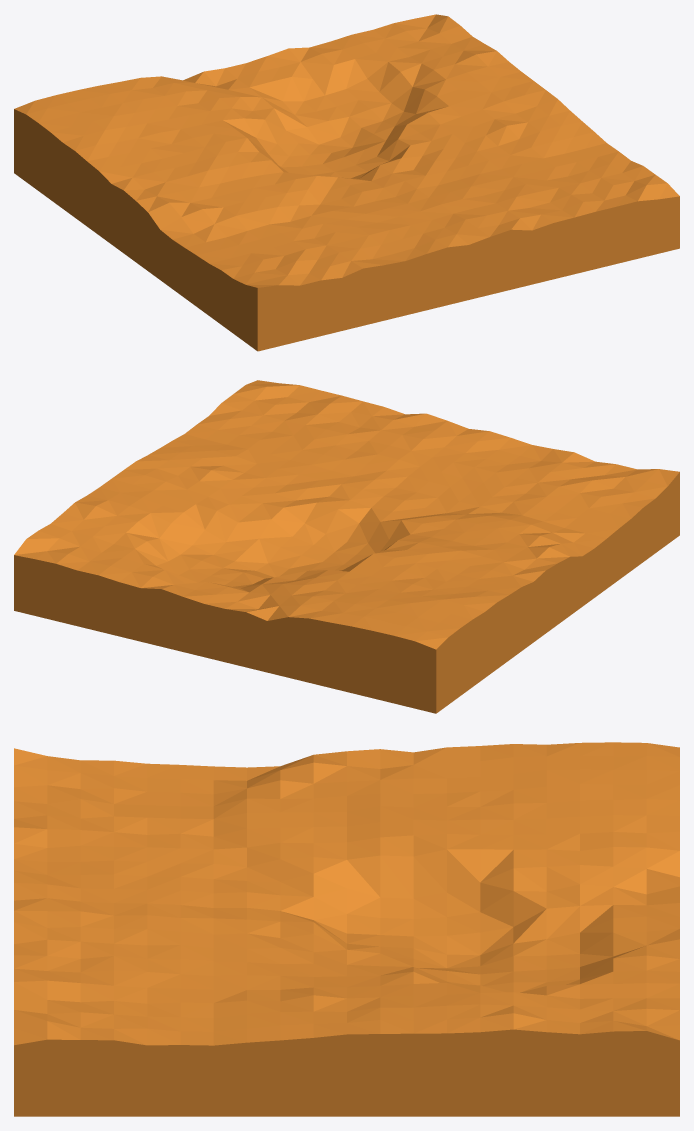
Rendered from map2.fbx.
The picture shows the model from 3 angles, top to bottom: view 1: azimuth 30°, elevation 25°; view 2: azimuth 150°, elevation 25°; view 3: azimuth 270°, elevation 25°; orthographic projection. The views are drawn at different scales.
Visible parts, largest first — view 1: Plane.003; view 2: Plane.003; view 3: Plane.003.
Part boxes in pixels (box(x1,y1,x2,y2)): Plane.003: box(14, 14, 679, 351); Plane.003: box(14, 380, 679, 713); Plane.003: box(14, 742, 679, 1116).
Size of the model in its own units: 10000 by 1550 by 10000.
